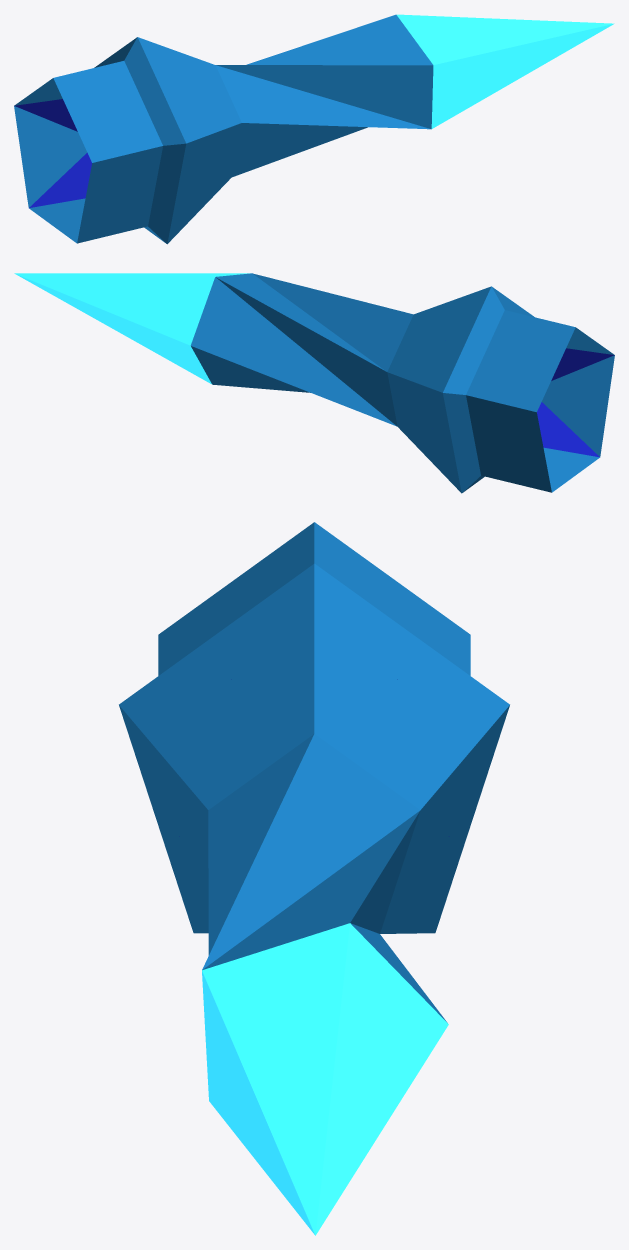
The model's file is shoot.fbx.
3 renders of one model, top to bottom at view 1: azimuth 30°, elevation 25°; view 2: azimuth 150°, elevation 25°; view 3: azimuth 270°, elevation 25°, orthographic. The views are drawn at different scales.
Parts seen in each view (by area): view 1: Icosphere; view 2: Icosphere; view 3: Icosphere.
Part boxes in pixels (box(x1,y1,x2,y2)): Icosphere: box(14, 14, 614, 244); Icosphere: box(14, 273, 614, 493); Icosphere: box(119, 522, 509, 1235).
Bounding box in the file's own units: 241 × 75.91 × 72.76.
